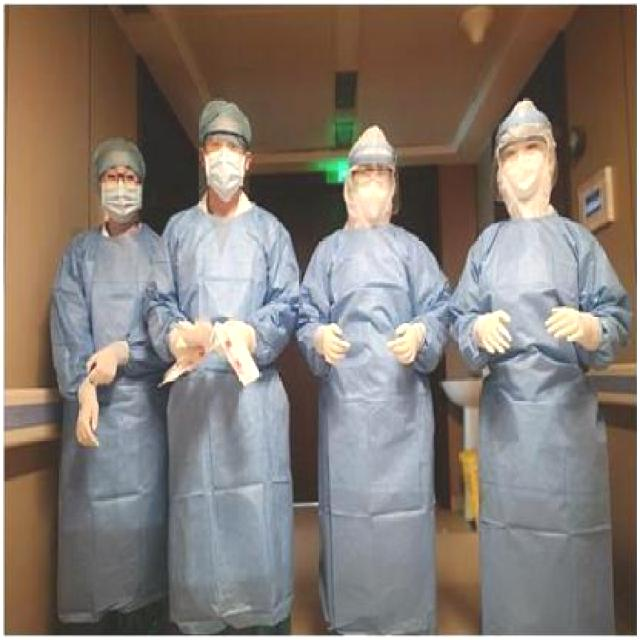face_mask: (498, 142, 550, 206), (205, 132, 248, 198), (348, 163, 394, 222), (101, 163, 137, 219)
glasses: (98, 166, 142, 189)
hand_glove: (545, 303, 597, 351), (478, 298, 517, 360), (83, 340, 123, 388), (72, 382, 100, 449), (317, 317, 355, 365), (390, 322, 428, 368), (174, 322, 203, 368)
head_nohelmet: (480, 96, 568, 152), (189, 99, 263, 144), (340, 124, 408, 168), (91, 134, 152, 168)
person: (451, 84, 619, 640), (157, 88, 305, 634), (15, 118, 168, 640), (304, 109, 450, 640)
